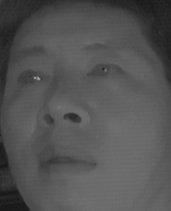eye: (83, 61, 128, 86), (12, 67, 50, 90)
mouth: (38, 141, 100, 181)
